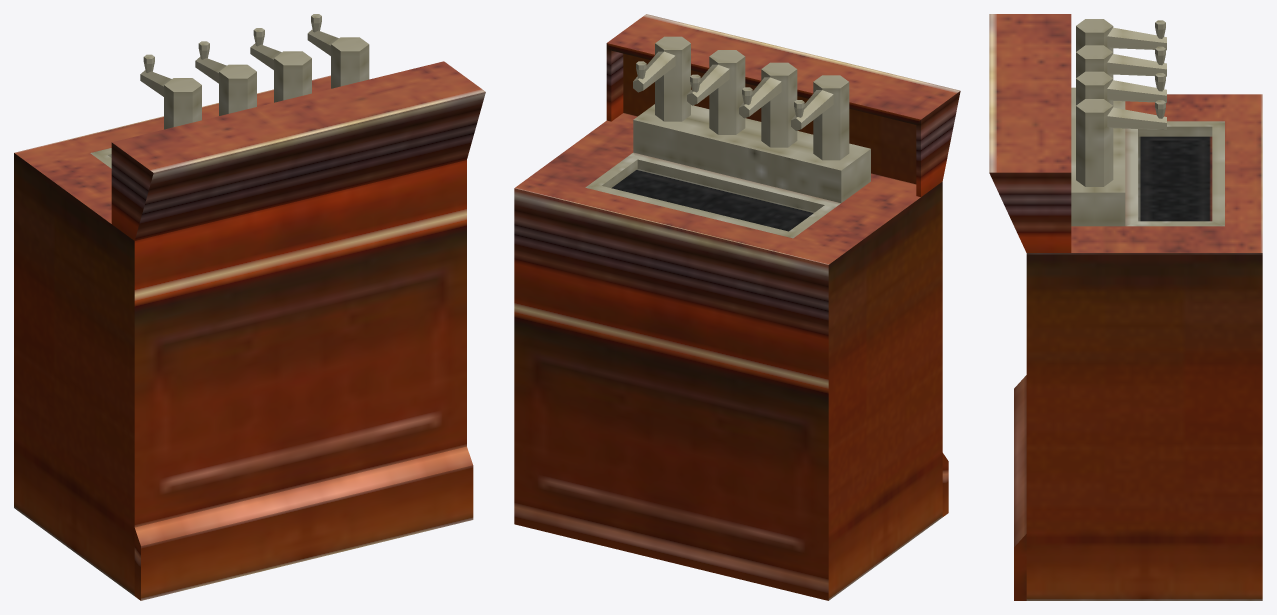
File: BarDispenser01.obj
3 renders of one model, left to right at view 1: azimuth 30°, elevation 25°; view 2: azimuth 150°, elevation 25°; view 3: azimuth 270°, elevation 25°, orthographic. The views are drawn at different scales.
Visible parts, largest first — view 1: BarDispenser01; view 2: BarDispenser01; view 3: BarDispenser01.
Part boxes in pixels (x1,y1,x2,y2): BarDispenser01: [14, 14, 485, 600]; BarDispenser01: [514, 14, 960, 600]; BarDispenser01: [989, 14, 1262, 600].
Size of the model in its own units: 1.51 by 2.04 by 1.1.
